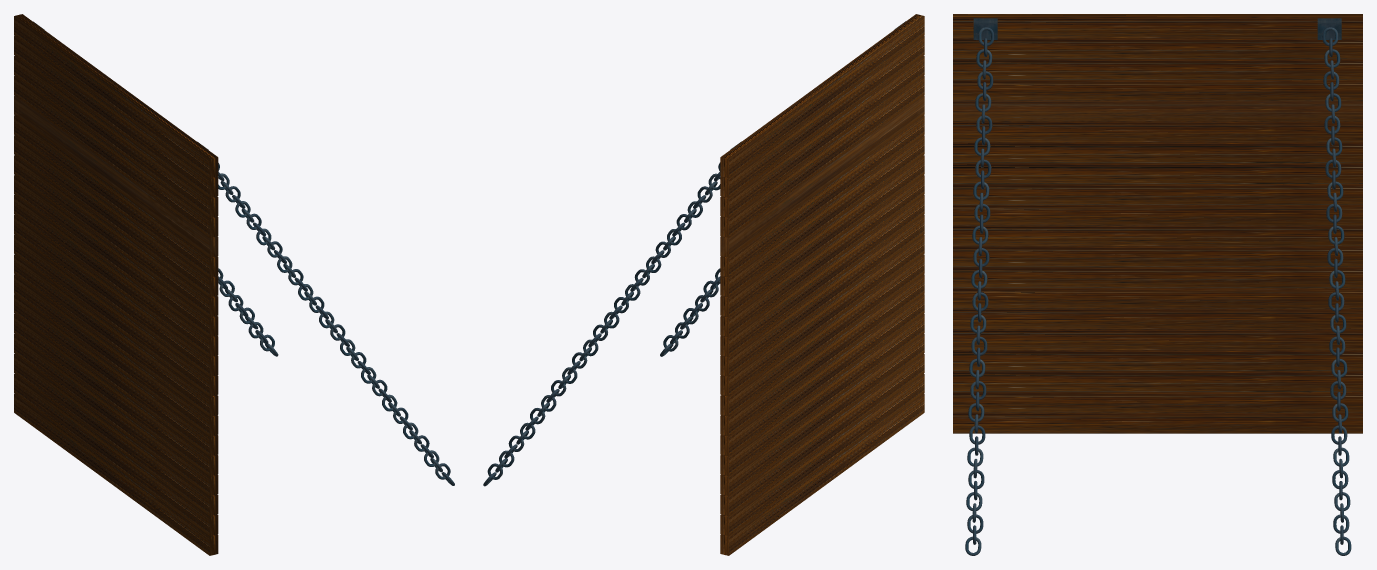
Rendered from fullBridge_2.fbx.
3 renders of one model, left to right at view 1: azimuth 30°, elevation 25°; view 2: azimuth 150°, elevation 25°; view 3: azimuth 270°, elevation 25°, orthographic. The views are drawn at different scales.
Visible parts, largest first — view 1: Cube.001; view 2: Cube.001; view 3: Cube.001.
Boxes of the visible parts, x1=… form: Cube.001: x1=14, y1=14, x2=454, y2=555; Cube.001: x1=483, y1=14, x2=924, y2=555; Cube.001: x1=953, y1=14, x2=1362, y2=555.
Size of the model in its own units: 635 by 949 by 849.
22 materials, 22 textured.
